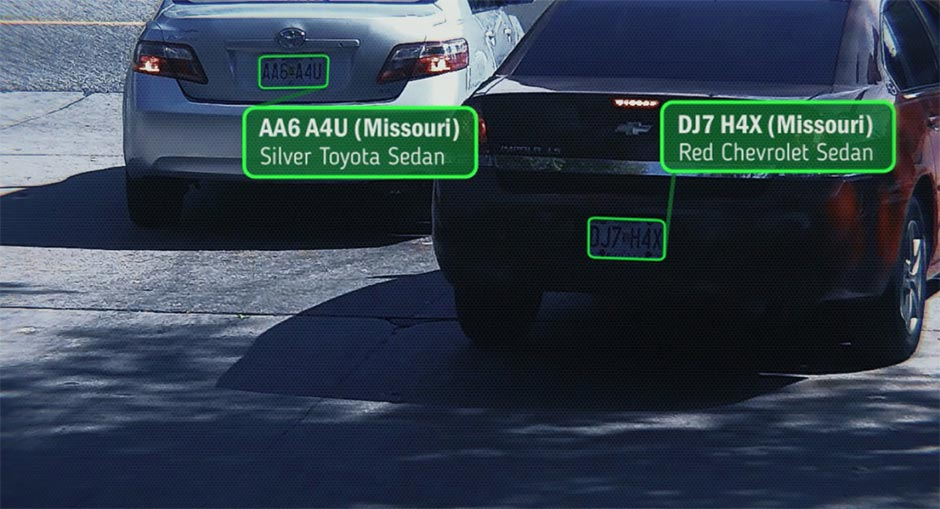license plate: (587, 218, 663, 259)
